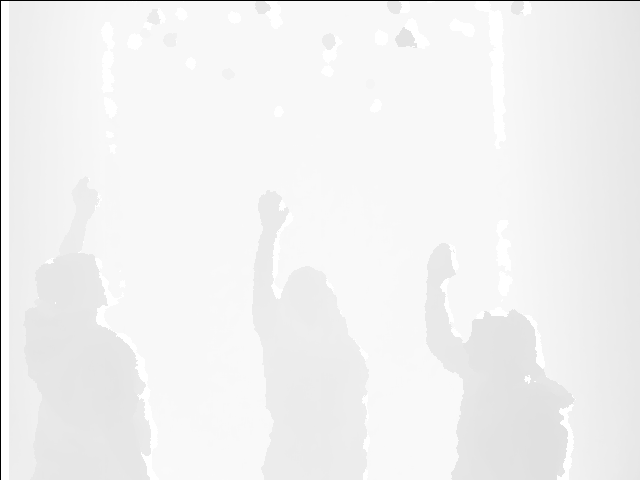hand: (258, 186, 288, 235), (72, 176, 104, 218), (428, 242, 456, 288)
